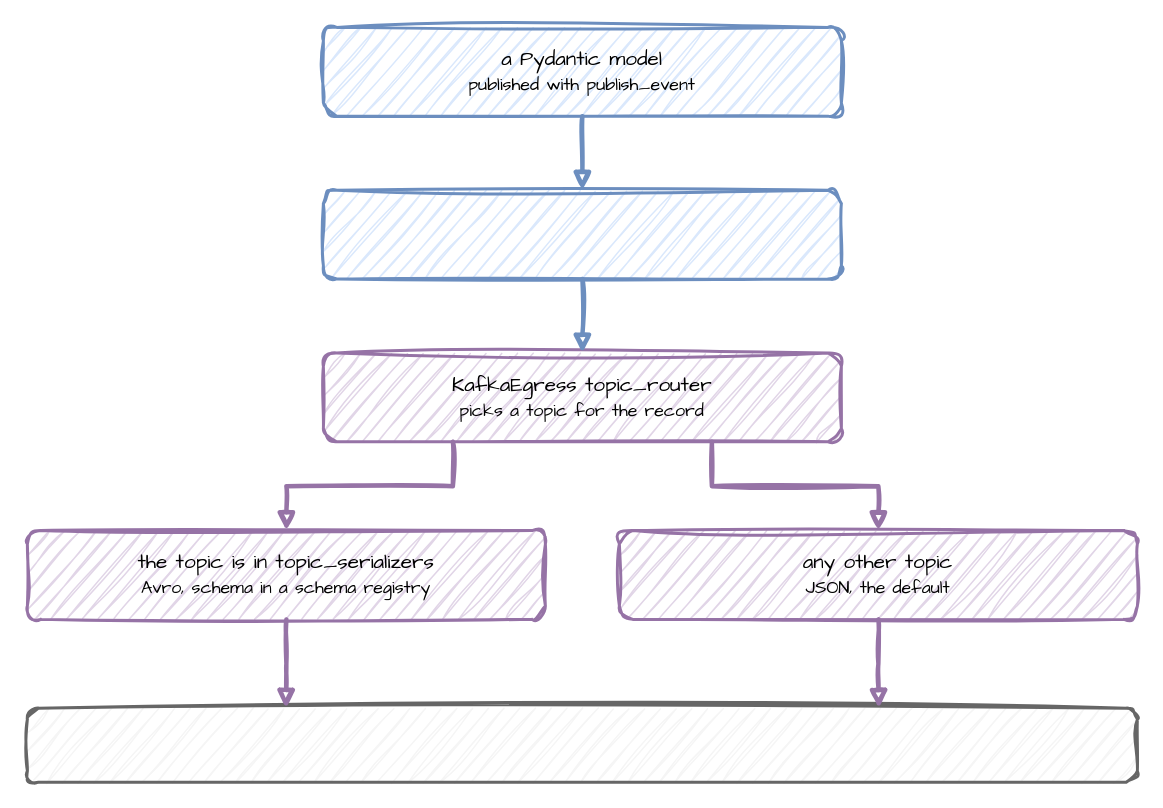
The diagram is 1163 pixels wide and 808 high, and some of its shapes have lost their labels. Each missing label, with the box of its shape:
a record whose value is a dict model_dump, before any egress: (321, 188, 842, 280)
Kafka: (25, 706, 1138, 783)
